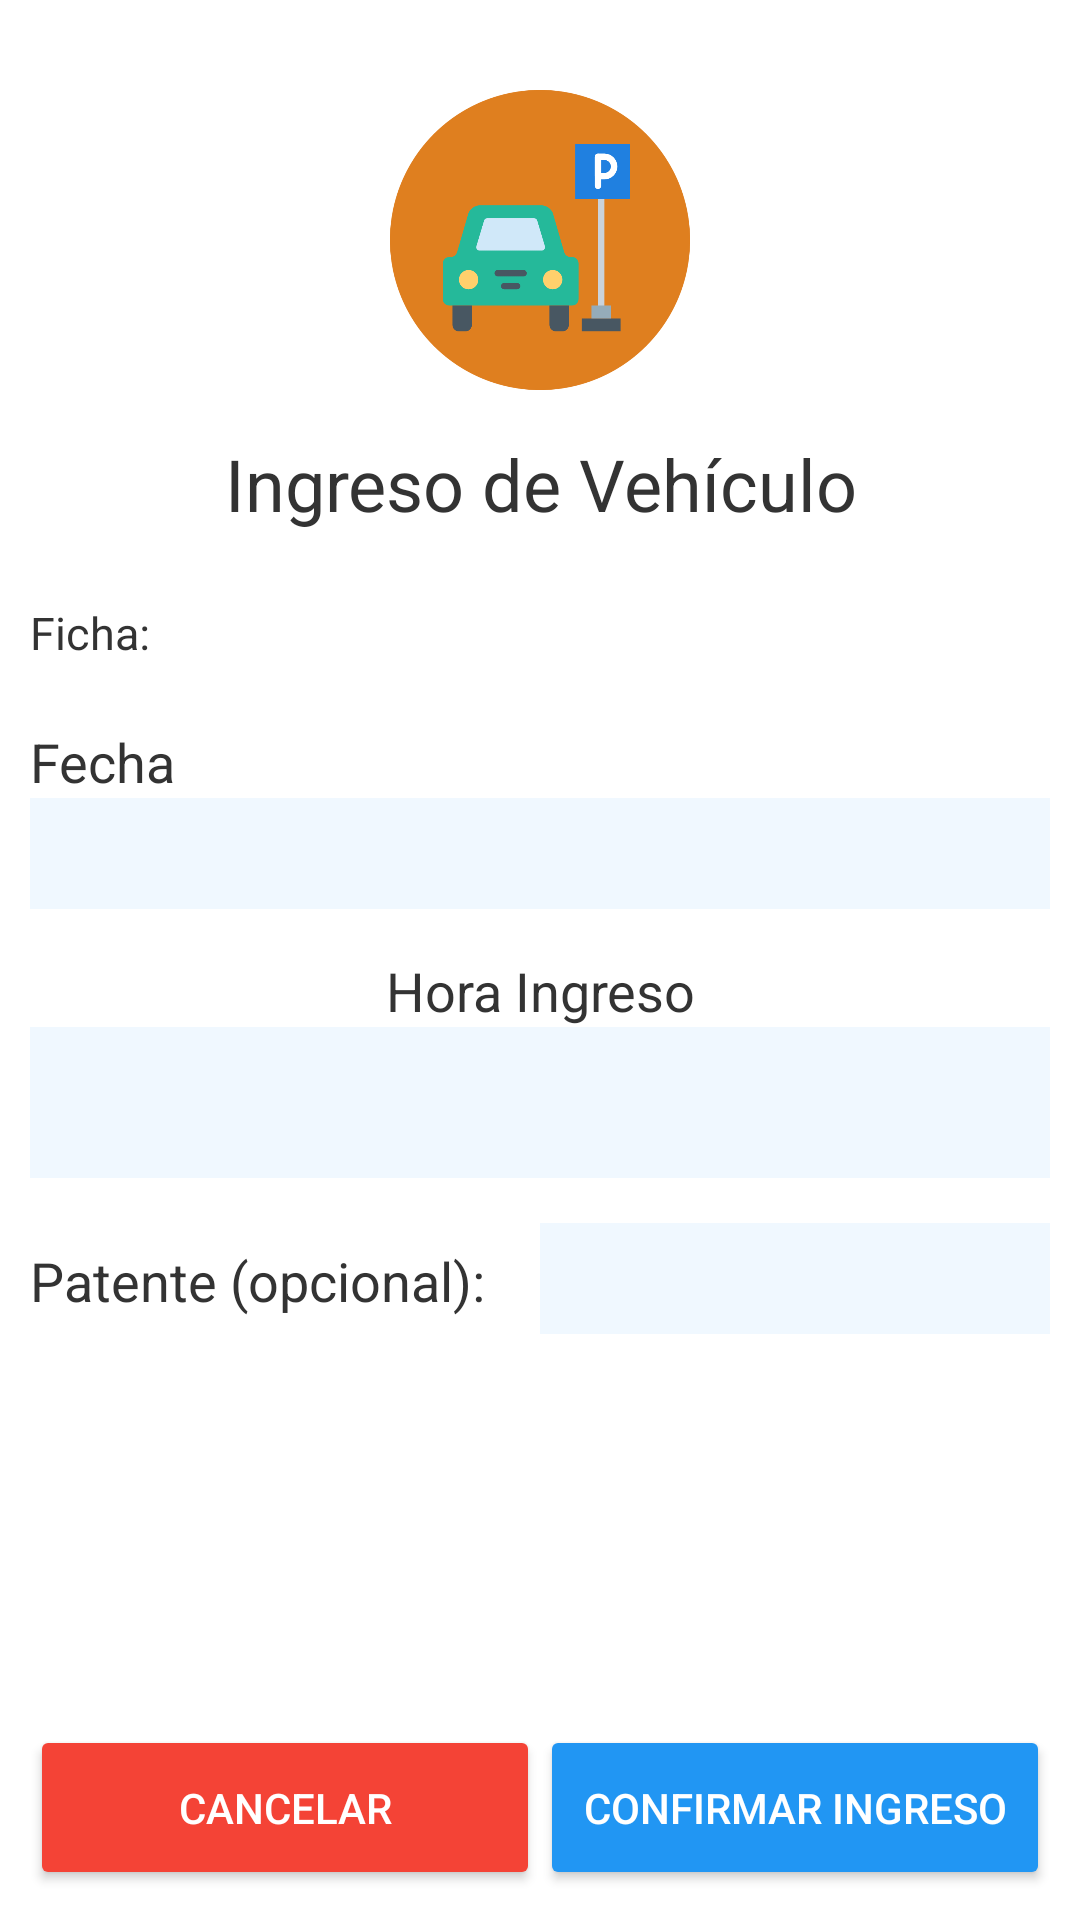

Screen size 1080 x 1920. Icon name, then its center in pixels as (x,y):
appicon: (540,240)
